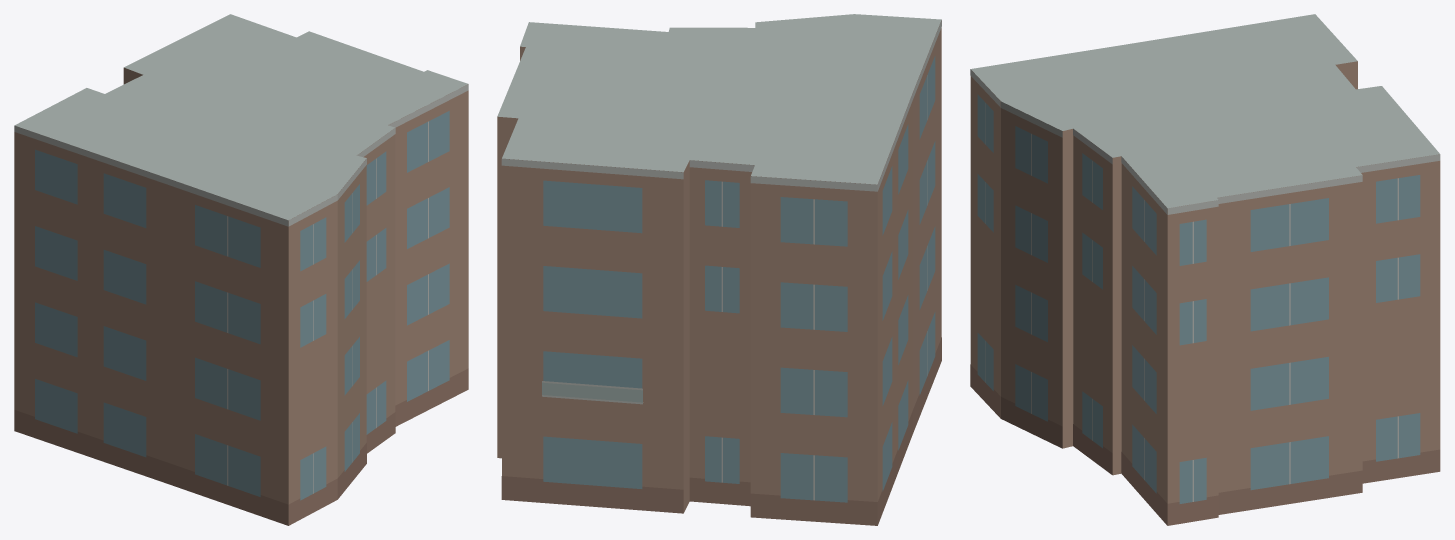
File: survey-upis-32742382.glb
The picture shows the model from 3 angles, left to right: view 1: azimuth 30°, elevation 25°; view 2: azimuth 150°, elevation 25°; view 3: azimuth 270°, elevation 25°; orthographic projection. The views are drawn at different scales.
Parts seen in each view (by area): view 1: survey-upis-32742382.tmp; view 2: survey-upis-32742382.tmp; view 3: survey-upis-32742382.tmp.
Boxes of the visible parts, x1,y1,x2,y2 form: survey-upis-32742382.tmp: [14, 14, 468, 525]; survey-upis-32742382.tmp: [497, 14, 941, 525]; survey-upis-32742382.tmp: [970, 14, 1440, 525].
Size of the model in its own units: 15.37 by 11.7 by 15.7.
